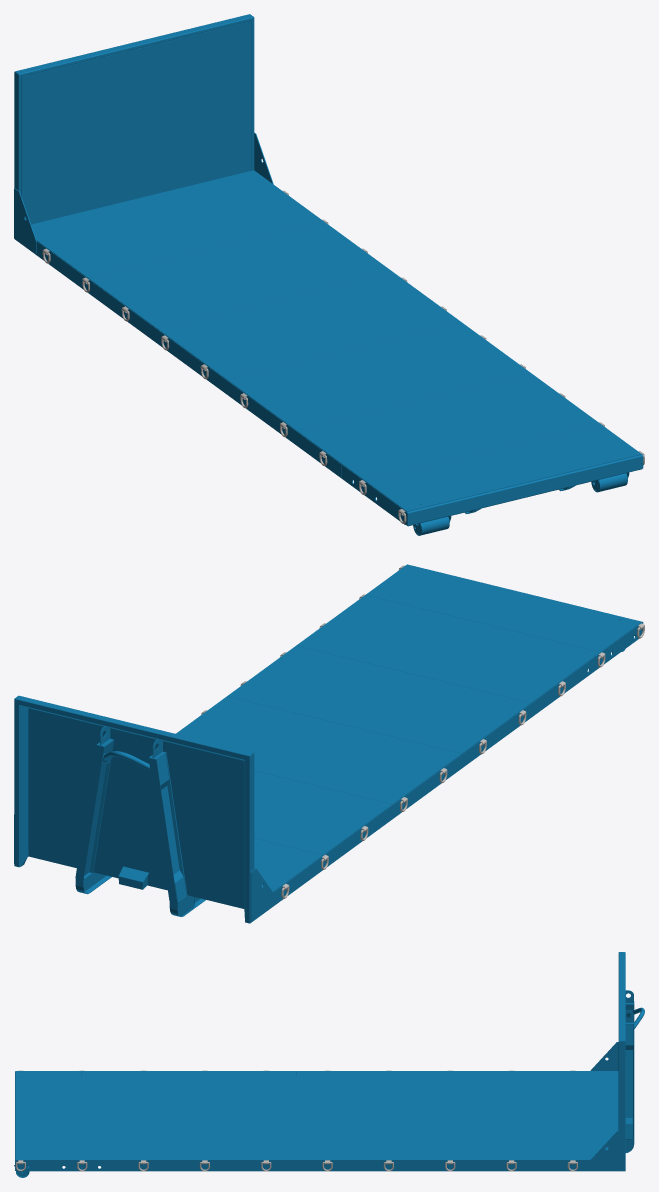
The picture shows the model from 3 angles, top to bottom: view 1: azimuth 30°, elevation 25°; view 2: azimuth 150°, elevation 25°; view 3: azimuth 270°, elevation 25°; orthographic projection. The views are drawn at different scales.
Parts seen in each view (by area): view 1: Solid1 (×11), Solid2 (×2); view 2: Solid1 (×14), Solid2 (×3); view 3: Solid1 (×11), Solid2 (×2).
Boxes of the visible parts, x1=… form: Solid1 (×11): x1=14, y1=14, x2=643, y2=526; Solid2 (×2): x1=19, y1=241, x2=407, y2=525; Solid1 (×14): x1=14, y1=564, x2=641, y2=923; Solid2 (×3): x1=148, y1=623, x2=642, y2=919; Solid1 (×11): x1=16, y1=952, x2=634, y2=1171; Solid2 (×2): x1=15, y1=1160, x2=618, y2=1171.
Bounding box in the file's own units: 2.52 × 1.82 × 7.31.
